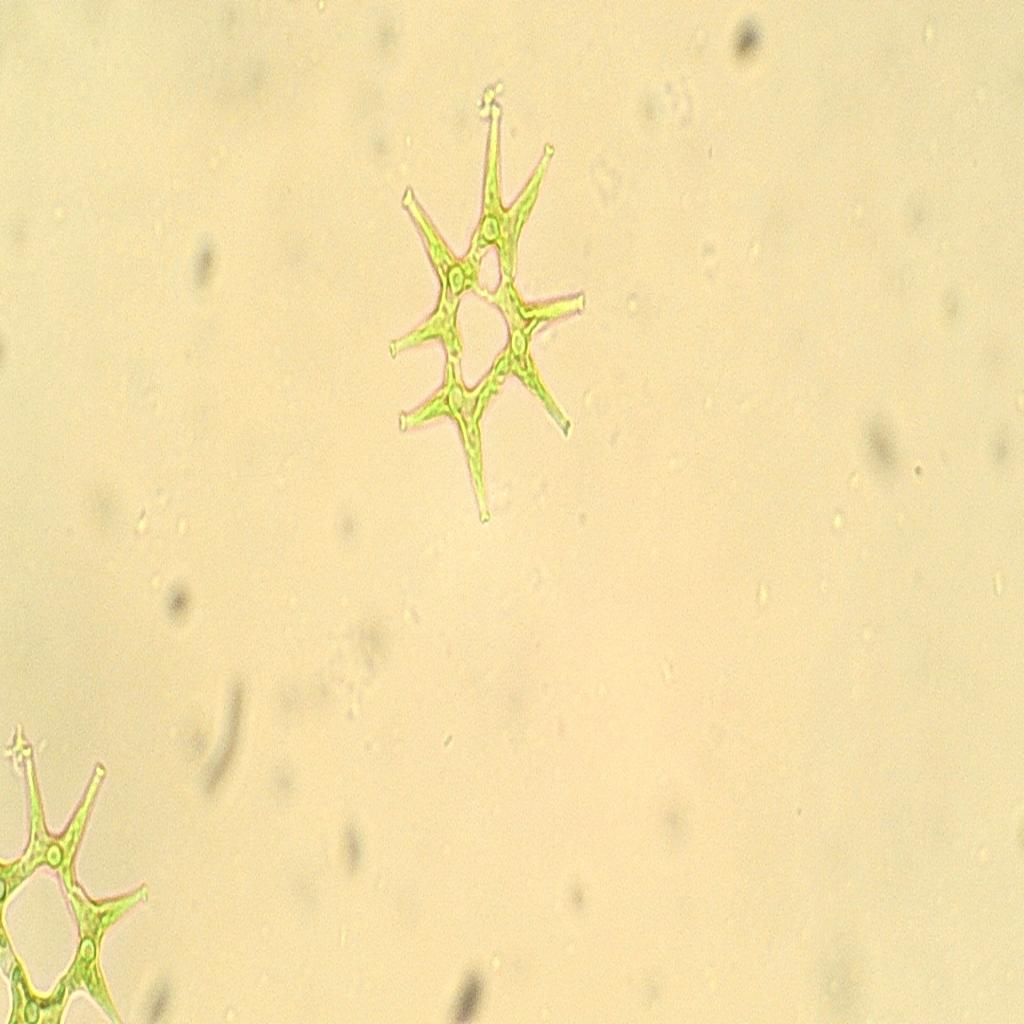Pediastrum_CF: (375, 85, 593, 537)
